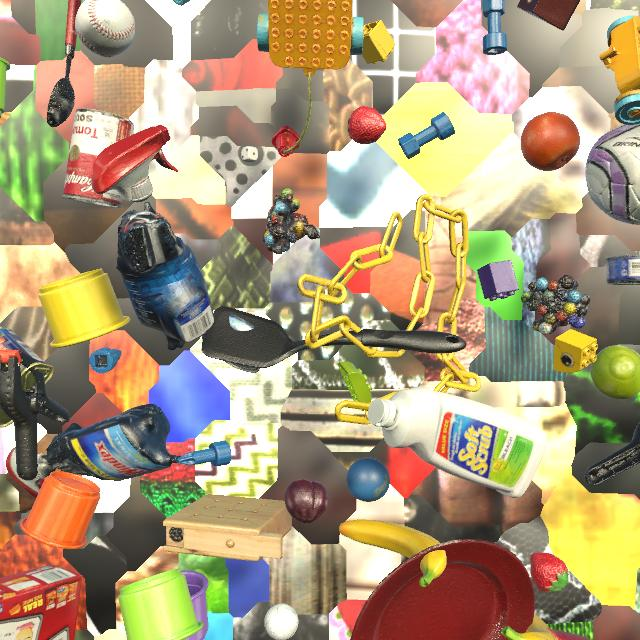ycb_003_cracker_box: (0, 565, 82, 640)
ycb_005_tomato_soup_can: (62, 108, 134, 208)
ycb_007_tuna_fish_can: (201, 315, 260, 373), (606, 255, 640, 285)
ycb_010_potted_meat_can: (0, 326, 54, 428)
ycb_011_banana: (339, 520, 447, 587), (501, 614, 557, 640)
ycb_012_strawberry: (530, 553, 569, 593), (347, 106, 386, 144)
ycb_016_pear: (590, 345, 640, 400)
ycb_017_orange: (520, 112, 580, 171)
ycb_018_plum: (284, 479, 329, 524)
